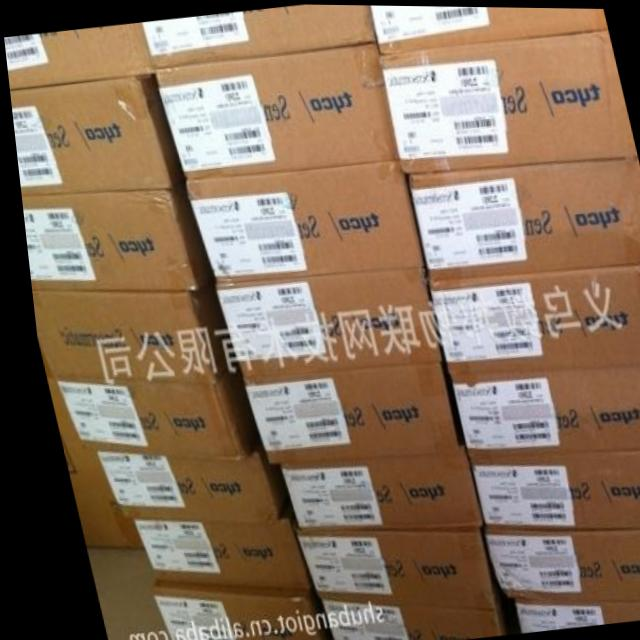box: (378, 27, 634, 171), (151, 45, 393, 183), (400, 156, 640, 281), (183, 159, 415, 281), (422, 263, 640, 377), (209, 268, 431, 379), (234, 359, 447, 464), (17, 174, 205, 290), (8, 69, 179, 194), (25, 277, 224, 384), (40, 357, 251, 457), (71, 436, 278, 520), (442, 365, 640, 452), (286, 526, 491, 609), (270, 447, 472, 530), (118, 505, 299, 590), (39, 377, 129, 547), (139, 4, 377, 66), (459, 448, 640, 528), (472, 527, 640, 598), (369, 4, 607, 53), (138, 579, 315, 640), (4, 25, 151, 90), (306, 595, 496, 640), (495, 598, 640, 631)
